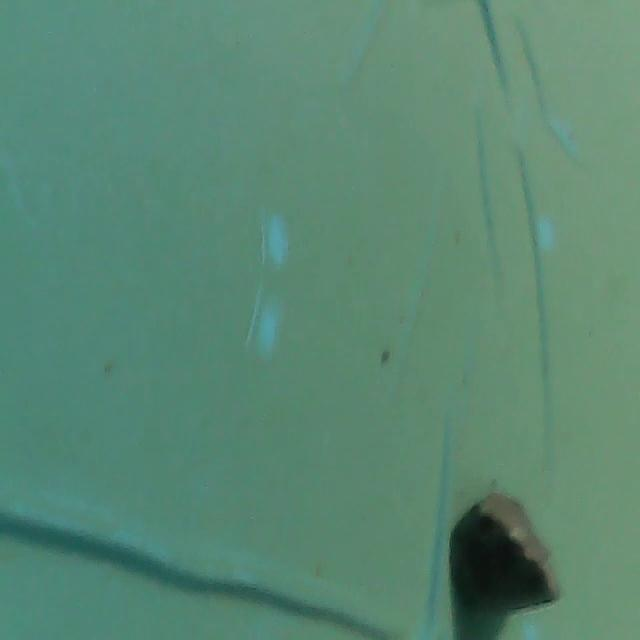rock: (449, 483, 572, 616)
